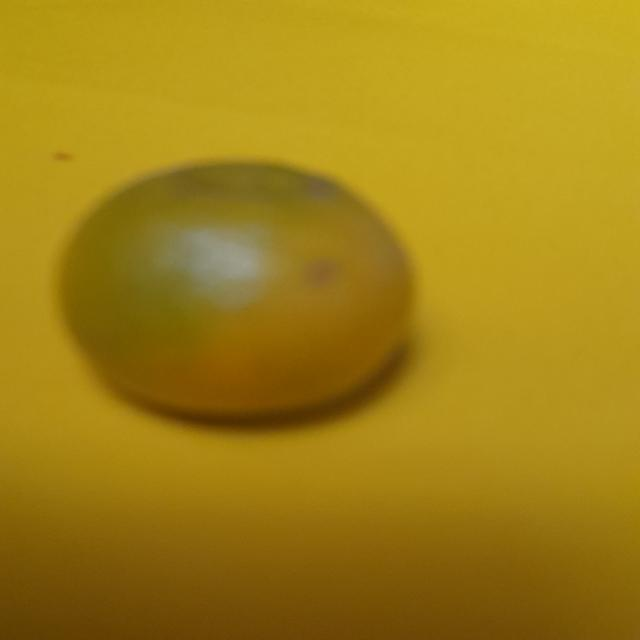greening: (54, 158, 422, 430)
